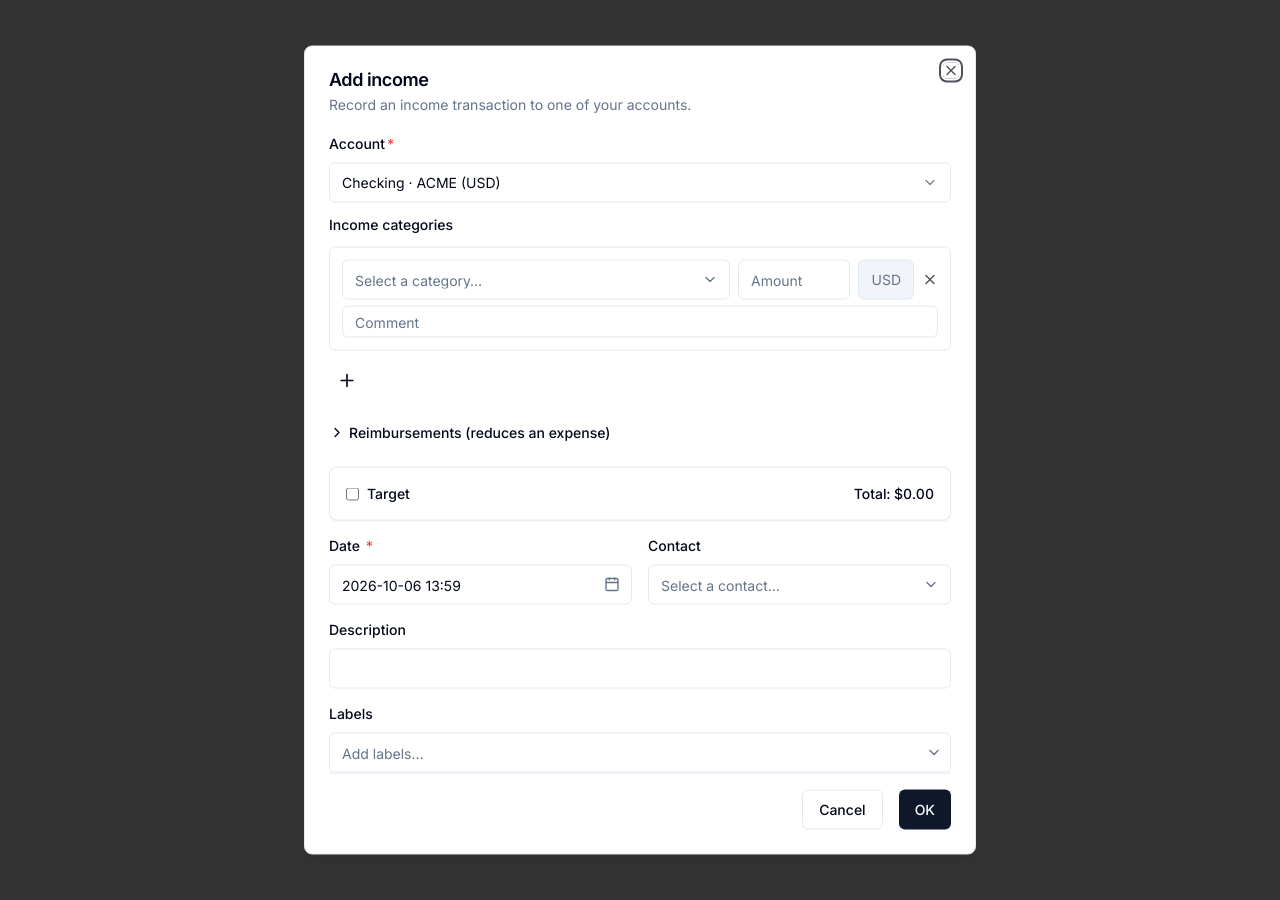
Scenario: CreateIncomeDialog › shows destructive alert banner for generic 500 error
Expected: the dialog "Add income" is shown, [304, 46, 976, 854]
Expected: the dropdown named "account" is shown, [329, 162, 951, 202]
Click the dropdown labelled "Select a category…" at (536, 280), box [342, 260, 730, 300]
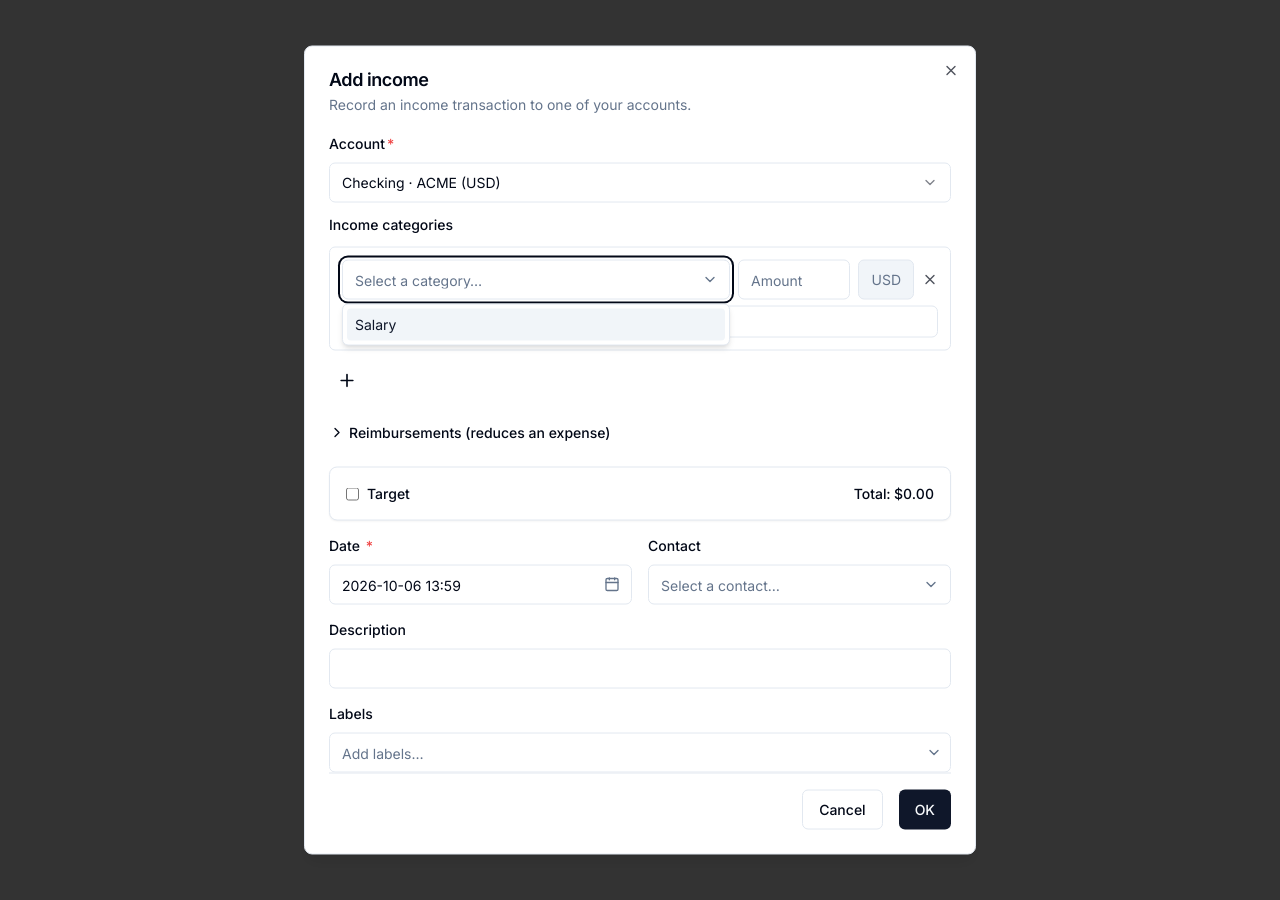
Click the option "Salary" at (376, 324), box [347, 308, 725, 340]
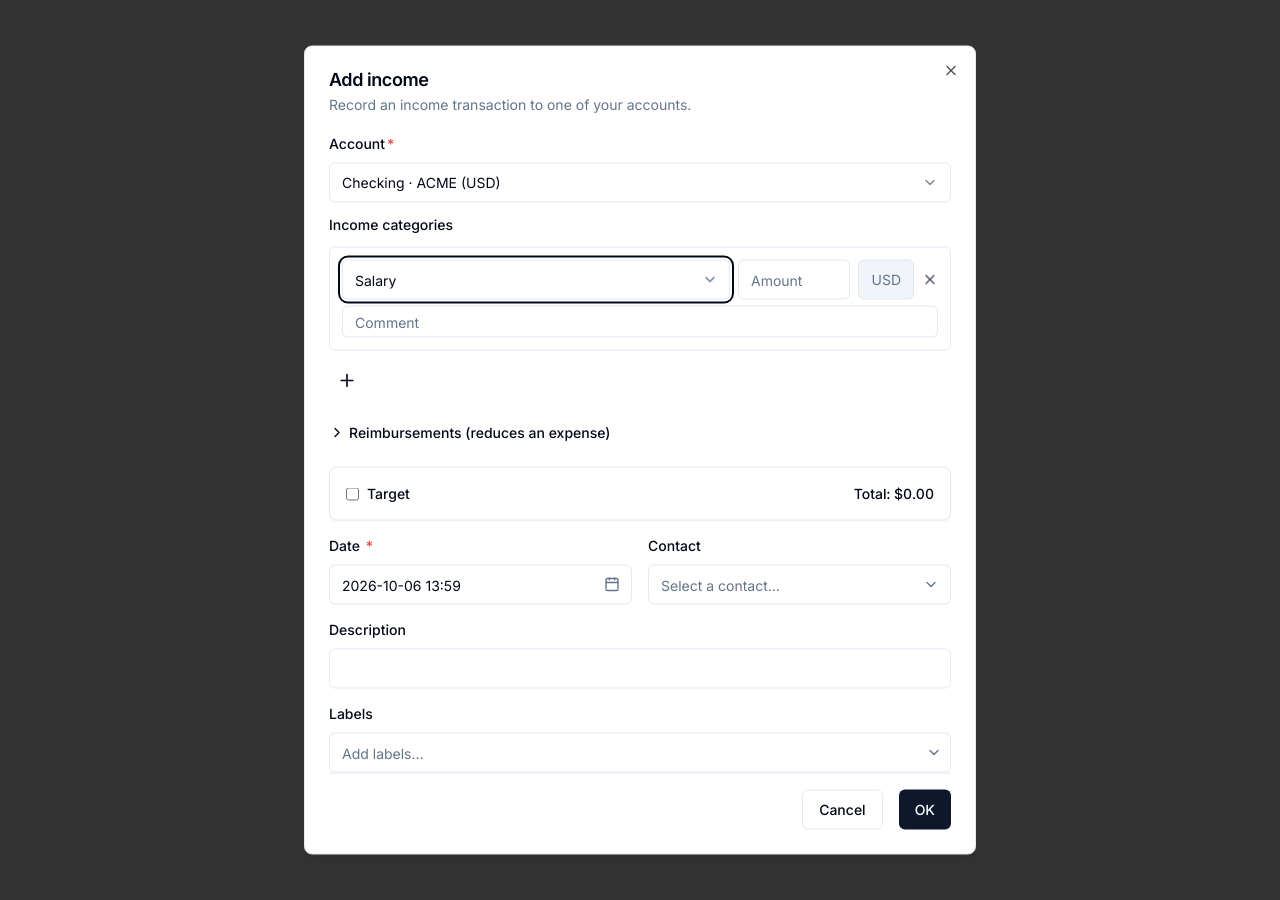
Type "100" into the number field labelled "Amount" at (794, 280), box [738, 260, 850, 300]
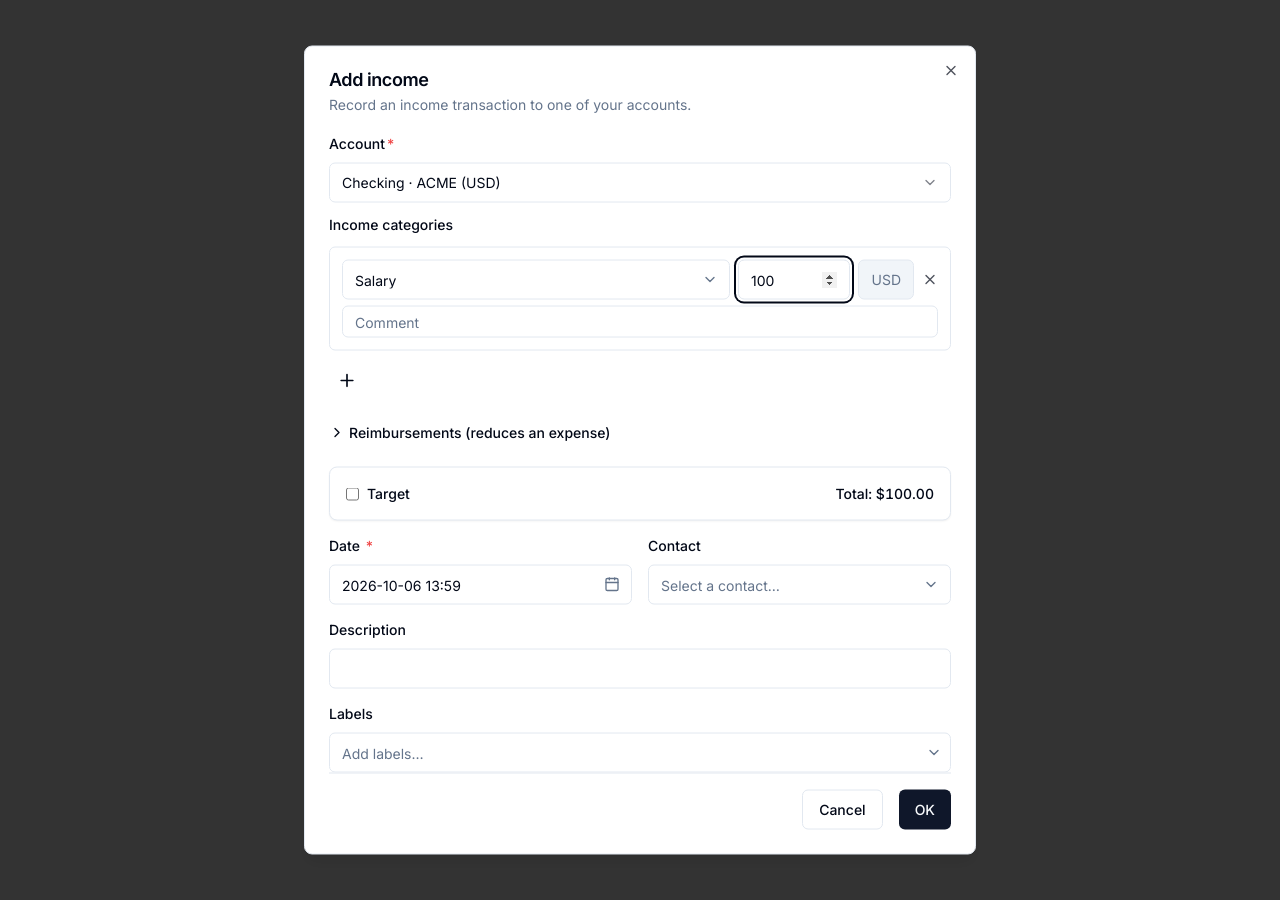
Type "Salary" into the field labelled "Description" at (640, 668), box [329, 648, 951, 688]
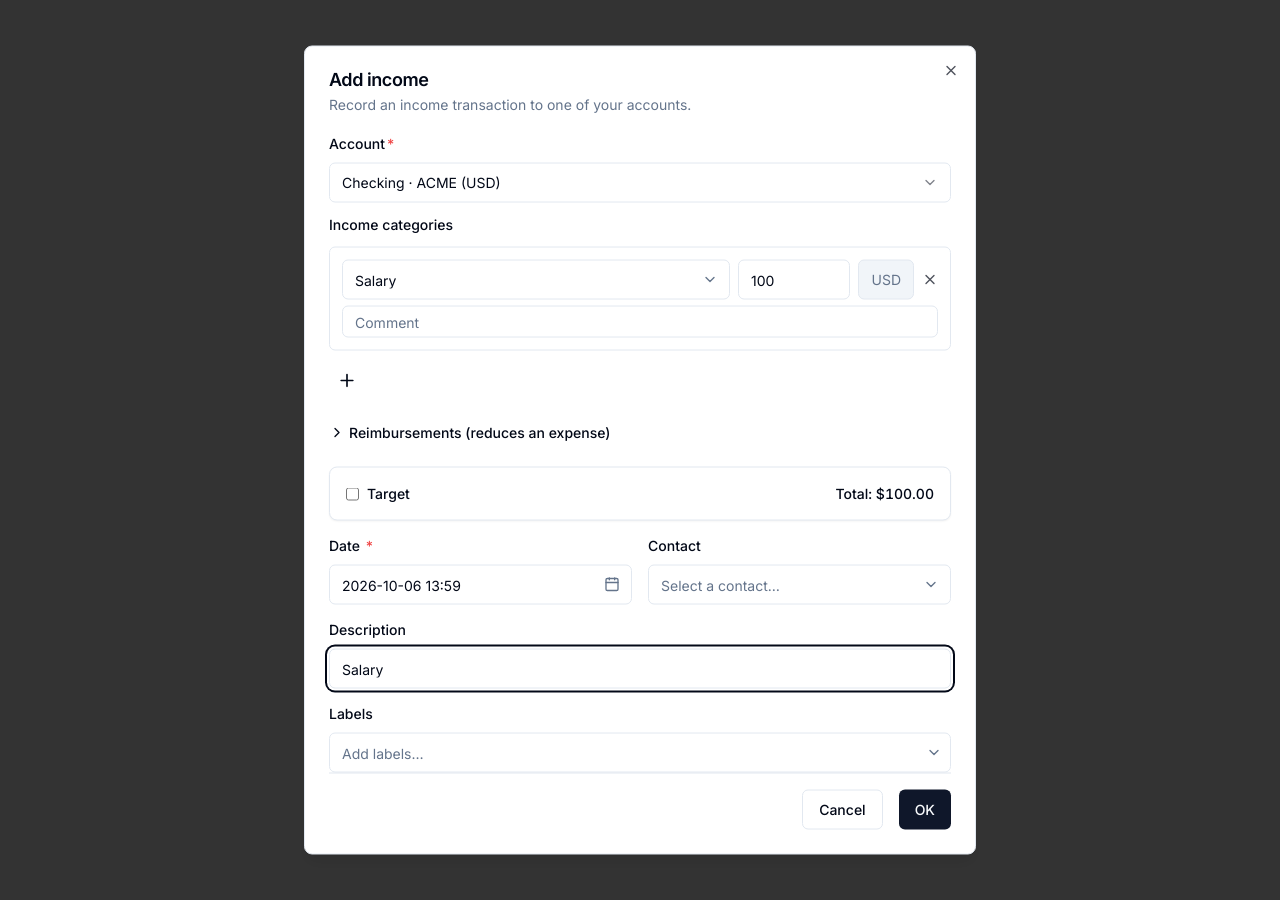
Click the button "OK" at (925, 810), box [899, 790, 951, 830]
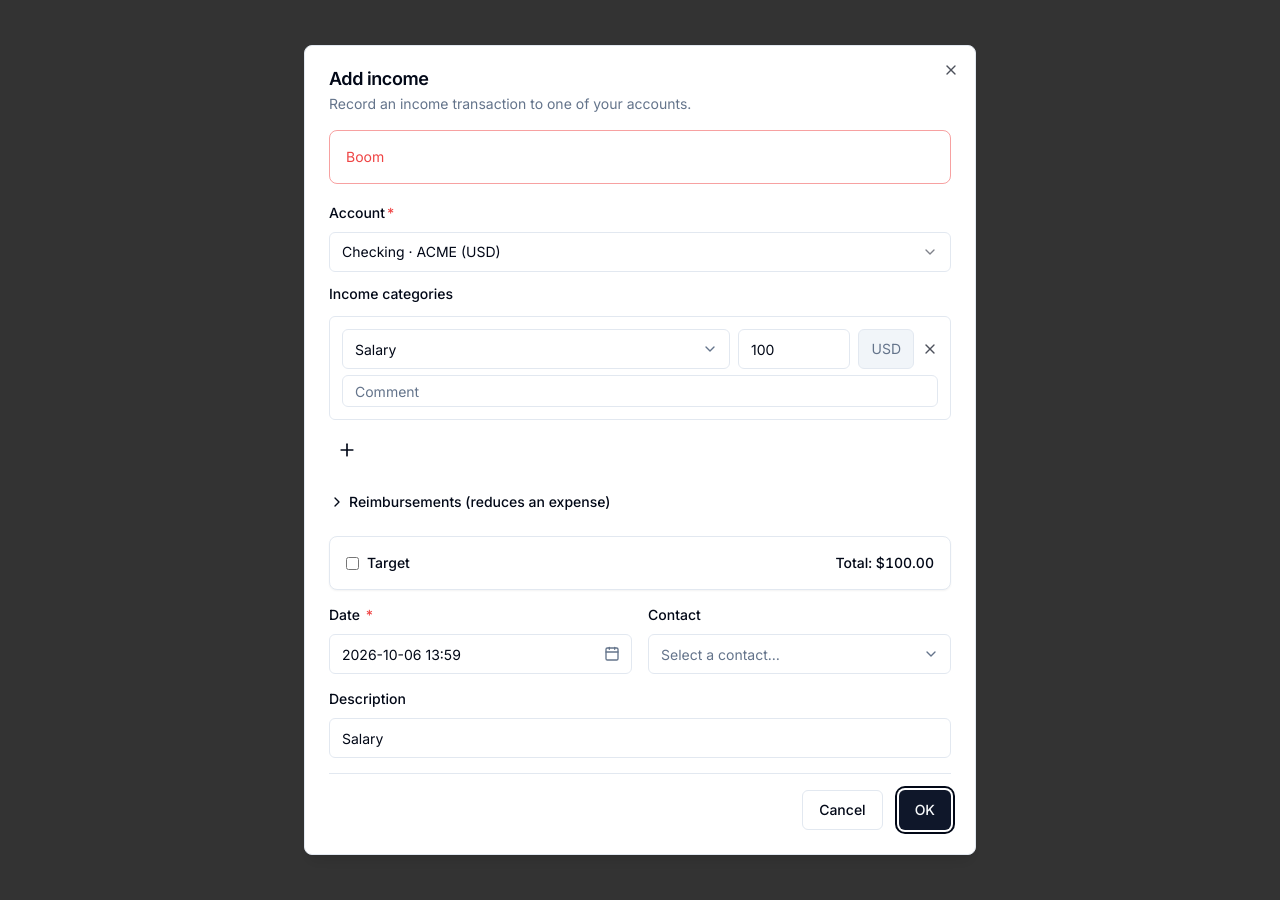
Now the message "Boom" is shown, box [329, 130, 951, 184]
Now the text "Boom" is shown, box [346, 148, 384, 165]
